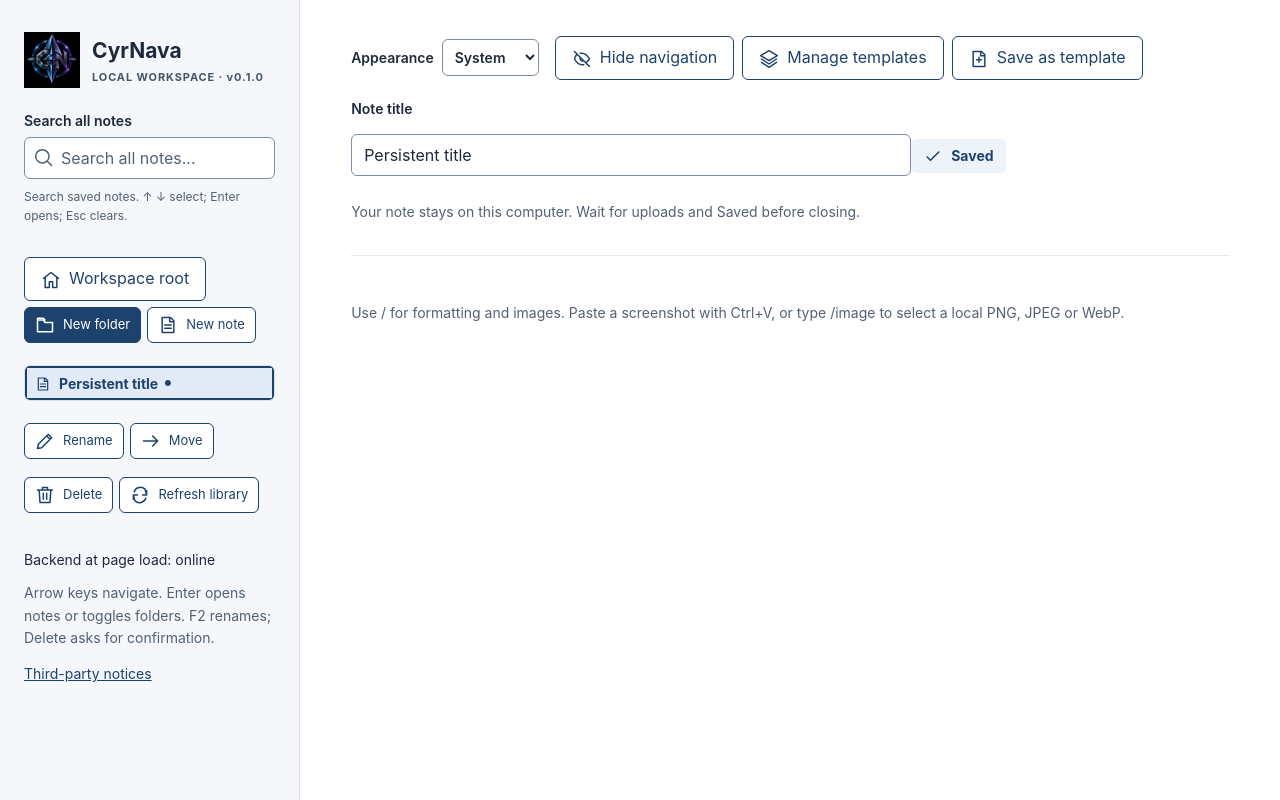
Test case: M1 behavior preserved through the library › reports save failure without hiding the draft
Replace the text in the field labelled "Note title" with "Unsaved title" at (631, 155), box x1=351 y1=134 x2=911 y2=176
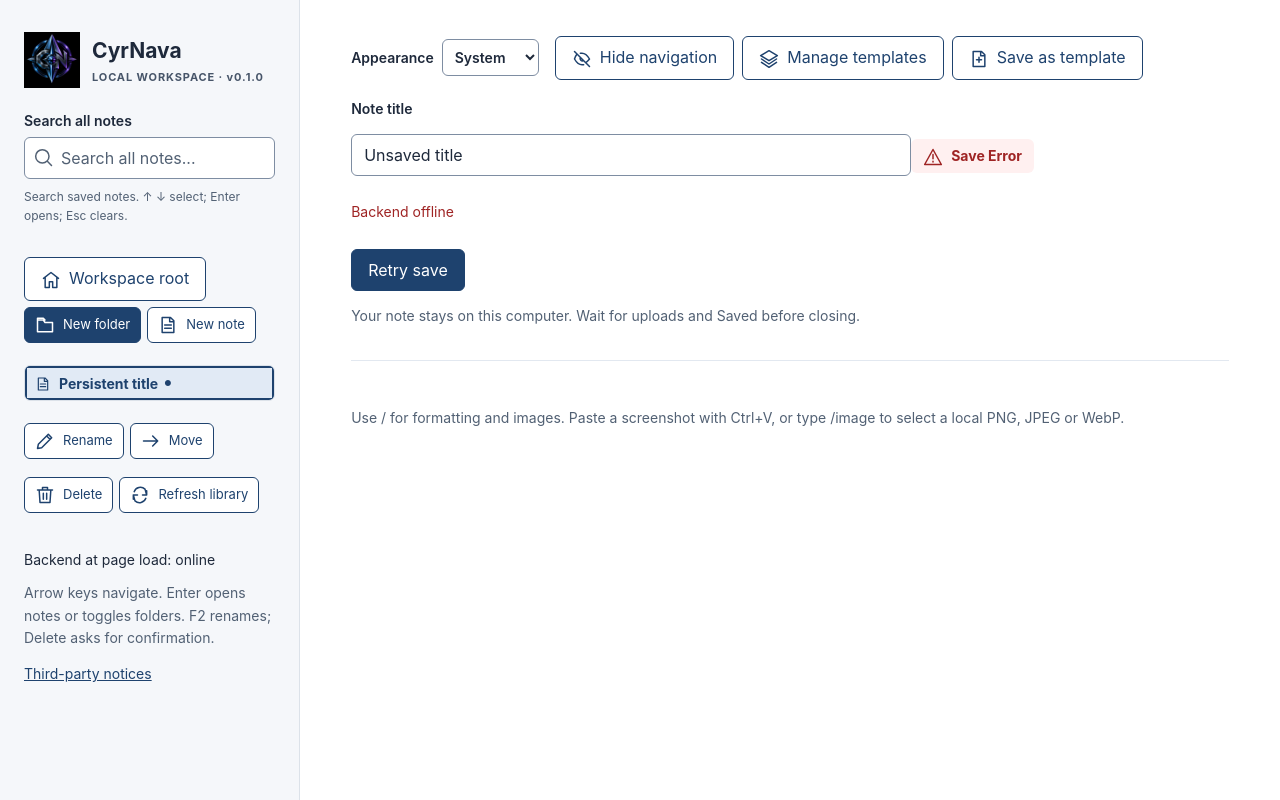
expect the text "Save Error" is shown: met, box x1=911 y1=139 x2=1034 y2=173
expect the button "Retry save" is shown: met, box x1=351 y1=249 x2=465 y2=291
